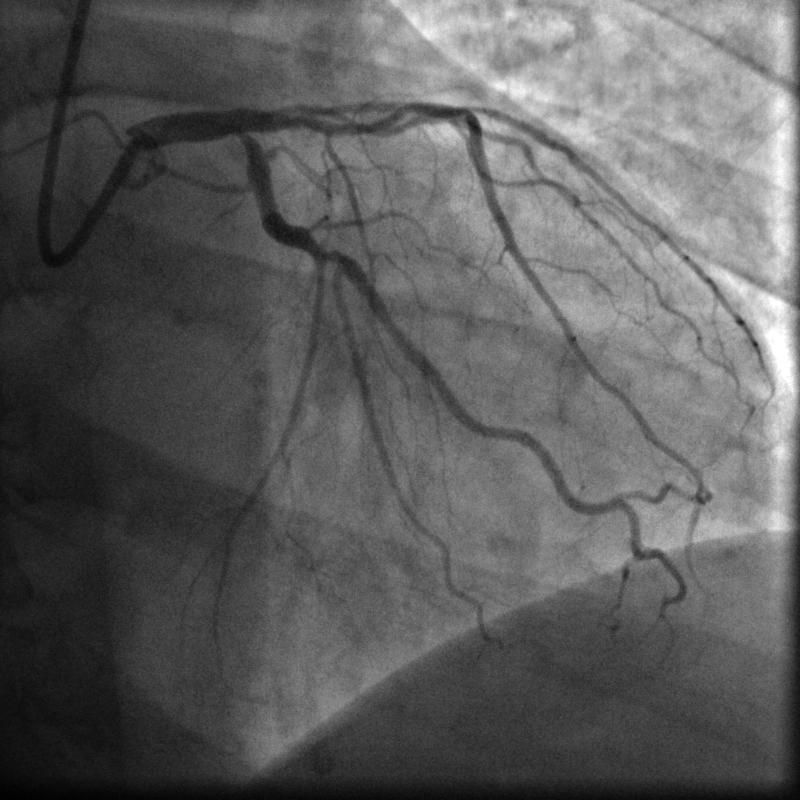Stenosis: (318, 242, 344, 266)
